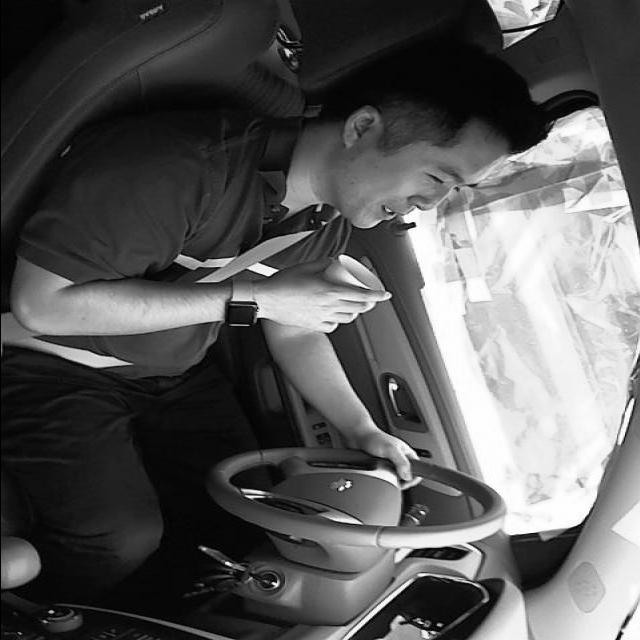drinking: (292, 254, 390, 332)
